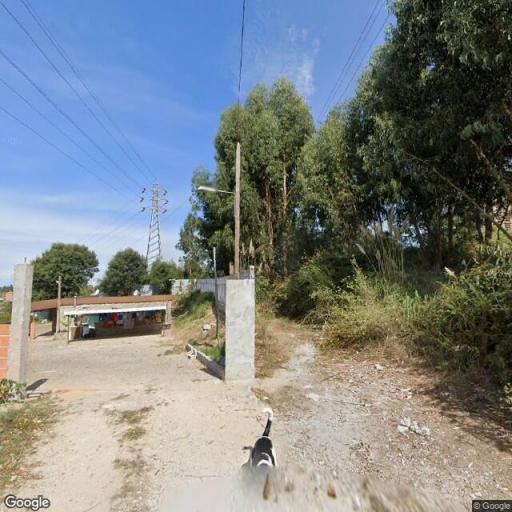ss_3: (138, 180, 170, 272)
